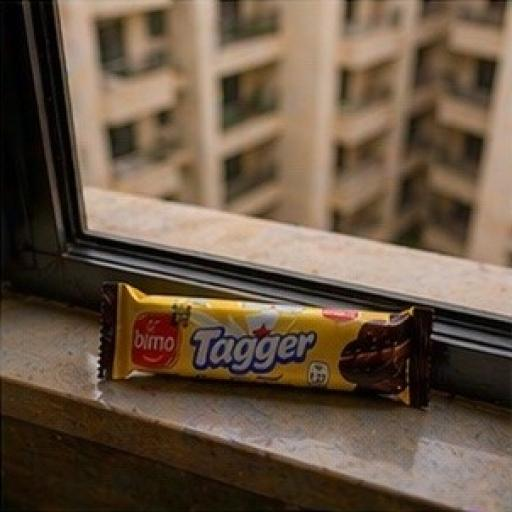tagger: (73, 213, 466, 451)
